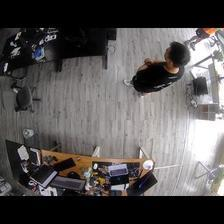normal: (124, 42, 190, 100)
